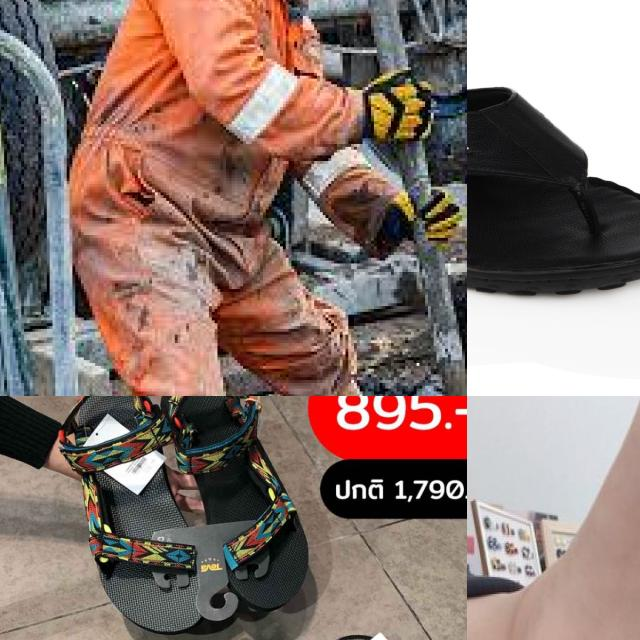Barefoots: (467, 396, 640, 640)
Sandals: (27, 396, 327, 640), (467, 76, 640, 298)
hand_glove: (364, 69, 432, 144), (419, 190, 461, 242), (379, 194, 414, 244)
